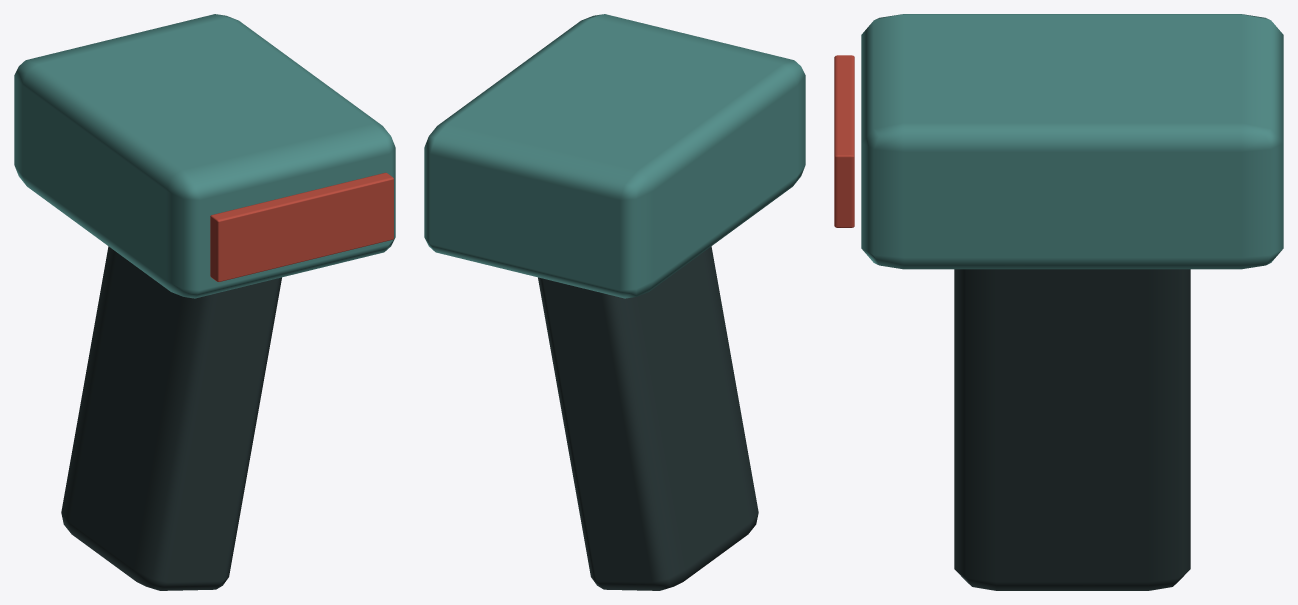
File: wp-scanner-de-caisse.glb
3 renders of one model, left to right at view 1: azimuth 30°, elevation 25°; view 2: azimuth 150°, elevation 25°; view 3: azimuth 270°, elevation 25°, orthographic. The views are drawn at different scales.
Parts seen in each view (by area): view 1: wp-scanner-de-caisse; view 2: wp-scanner-de-caisse; view 3: wp-scanner-de-caisse.
Boxes of the visible parts, bbox=[...] form: wp-scanner-de-caisse: bbox=[14, 14, 395, 590]; wp-scanner-de-caisse: bbox=[424, 14, 805, 590]; wp-scanner-de-caisse: bbox=[834, 14, 1283, 590].
Size of the model in its own units: 0.1 by 0.1985 by 0.15.
